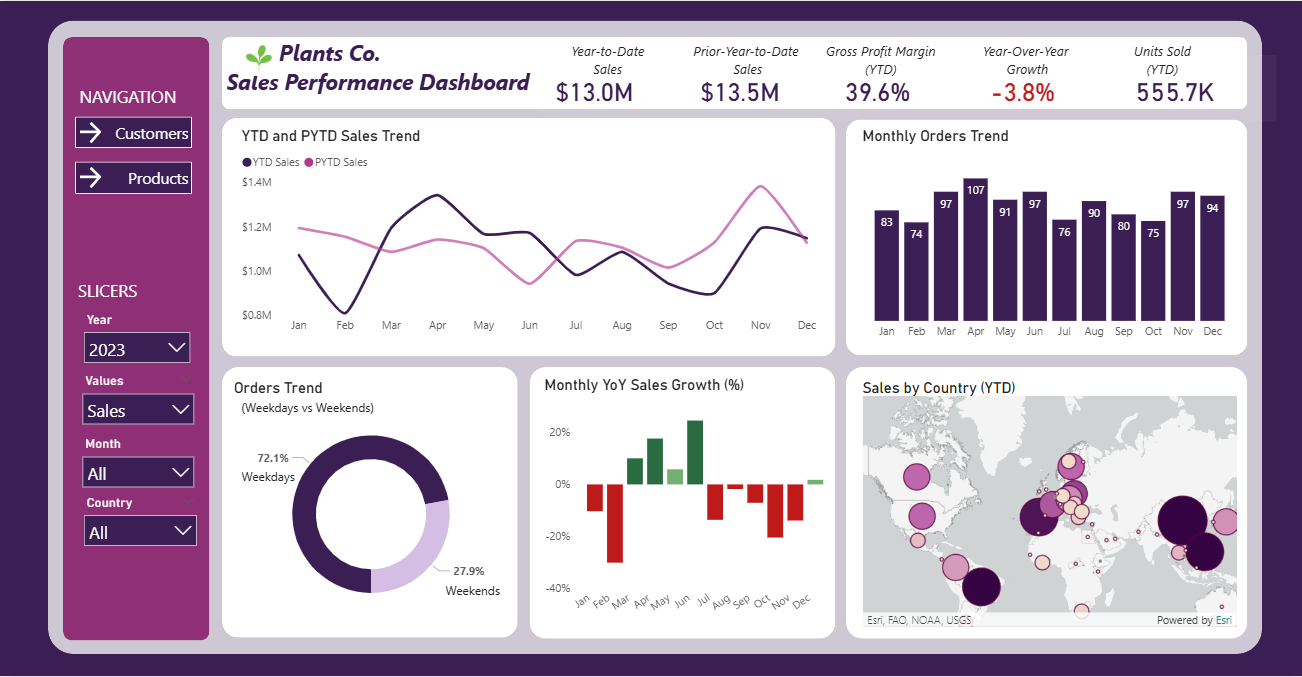

This screenshot's page, from the dashboard's own definition file:
{"tool":"powerbi","page":{"name":"Sales Performance","canvas":[1450,750],"ordinal":0},"visuals":[{"type":"shape","box":[52.9,21.6,1349,703.9],"z":0},{"type":"shape","box":[70.6,39.2,162.7,670.6],"z":1000},{"type":"shape","box":[247.1,39.2,1139.2,80.4],"z":2000},{"type":"cardVisual","fields":{"Data":["_Measures.S_YTD","_Measures.S_PYTD","_Measures.YTD_GP%","_Measures.YoY_Growth","_Measures.Quantity"]},"box":[600,60,818,74],"z":3000},{"type":"textbox","box":[247.1,35.3,376.5,82.4],"z":4000},{"type":"shape","box":[246.7,130,681.7,265],"z":5000},{"type":"shape","box":[940,132,446,262],"z":6000},{"type":"shape","box":[247,405.9,328.6,300.9],"z":7000},{"type":"shape","box":[588,406,340,302],"z":8000},{"type":"shape","box":[940,406,446,302],"z":9000},{"type":"clusteredColumnChart","title":"Monthly YoY Sales Growth (%)","fields":{"Y":["_Measures.YoY_Monthly_Growth"],"Category":["Dim_Date.Short Month"]},"box":[600,417.1,328.6,282.9],"z":10000},{"type":"lineChart","title":"YTD and PYTD Sales Trend","fields":{"Y":["_Measures.Total Sales (USD)","_Measures.PY Month Sales (USD)"],"Category":["Dim_Date.Short Month"]},"box":[263.3,140,658.3,238.3],"z":11000},{"type":"donutChart","title":"Orders Trend ","fields":{"Category":["Dim_Date.IsWeekend"],"Y":["_Measures.Total Orders"]},"box":[254.9,419.6,313.7,280.4],"z":12000},{"type":"columnChart","title":"Monthly Orders Trend","fields":{"Y":["_Measures.Total Orders"],"Category":["Dim_Date.Short Month"]},"box":[952.9,139.2,425.5,245.1],"z":13000},{"type":"textbox","box":[623.5,39.2,103.9,51],"z":14000},{"type":"textbox","box":[758.8,39.2,145.1,51],"z":15000},{"type":"textbox","box":[903.9,39.2,151,51],"z":16000},{"type":"textbox","box":[1237.3,39.2,109.8,51],"z":17000},{"type":"textbox","box":[1074.5,39.2,133.3,60.8],"z":18000},{"type":"esriVisual","title":"Sales by Country (YTD)","fields":{"Size":["_Measures.S_YTD"],"Color":["_Measures.YTD_Sales"],"Location":["Dim_Accounts.Country_Name"]},"box":[952.9,419.6,425.5,280.4],"z":19000},{"type":"slicer","fields":{"Values":["Slc_Values.Values"]},"box":[82,408,144,74],"z":20000},{"type":"slicer","fields":{"Values":["Dim_Date.Year"]},"box":[84,340,138,90],"z":21000},{"type":"textbox","box":[262.7,437.3,182.4,31.4],"z":22000},{"type":"textbox","box":[490.2,639.2,86.3,33.3],"z":23000},{"type":"textbox","box":[262.7,513.7,72.5,29.4],"z":24000},{"type":"slicer","fields":{"Values":["Dim_Date.Month"]},"box":[82,478,144,74],"z":25000},{"type":"image","box":[218.3,40,138.3,48.3],"z":26000},{"type":"actionButton","box":[84,128,130,35],"z":27000},{"type":"actionButton","box":[84,178,130,36],"z":28000},{"type":"textbox","box":[84,88,130,40],"z":29000},{"type":"textbox","box":[82,304,130,36],"z":30000},{"type":"slicer","fields":{"Values":["Dim_Accounts.Country_Name"]},"box":[83.3,543.3,145,73.3],"z":31000}]}

Visuals, with their boxes in screenshot pixels (x1, y1, x2, y2), scaled from the page's 1450x750 canvas onto the 1302x677 screenshot:
shape: [48, 19, 1259, 655]
shape: [63, 35, 209, 641]
shape: [222, 35, 1245, 108]
cardVisual - _Measures.S_YTD x _Measures.S_PYTD: [539, 54, 1273, 121]
textbox: [222, 32, 560, 106]
shape: [222, 117, 834, 357]
shape: [844, 119, 1245, 356]
shape: [222, 366, 517, 638]
shape: [528, 366, 833, 639]
shape: [844, 366, 1245, 639]
"Monthly YoY Sales Growth (%)" clusteredColumnChart: [539, 377, 834, 632]
"YTD and PYTD Sales Trend" lineChart: [236, 126, 828, 341]
"Orders Trend " donutChart: [229, 379, 511, 632]
"Monthly Orders Trend" columnChart: [856, 126, 1238, 347]
textbox: [560, 35, 653, 81]
textbox: [681, 35, 812, 81]
textbox: [812, 35, 947, 81]
textbox: [1111, 35, 1210, 81]
textbox: [965, 35, 1085, 90]
"Sales by Country (YTD)" esriVisual: [856, 379, 1238, 632]
slicer - Slc_Values.Values: [74, 368, 203, 435]
slicer - Dim_Date.Year: [75, 307, 199, 388]
textbox: [236, 395, 400, 423]
textbox: [440, 577, 518, 607]
textbox: [236, 464, 301, 490]
slicer - Dim_Date.Month: [74, 431, 203, 498]
image: [196, 36, 320, 80]
actionButton: [75, 116, 192, 147]
actionButton: [75, 161, 192, 193]
textbox: [75, 79, 192, 116]
textbox: [74, 274, 190, 307]
slicer - Dim_Accounts.Country_Name: [75, 490, 205, 557]
